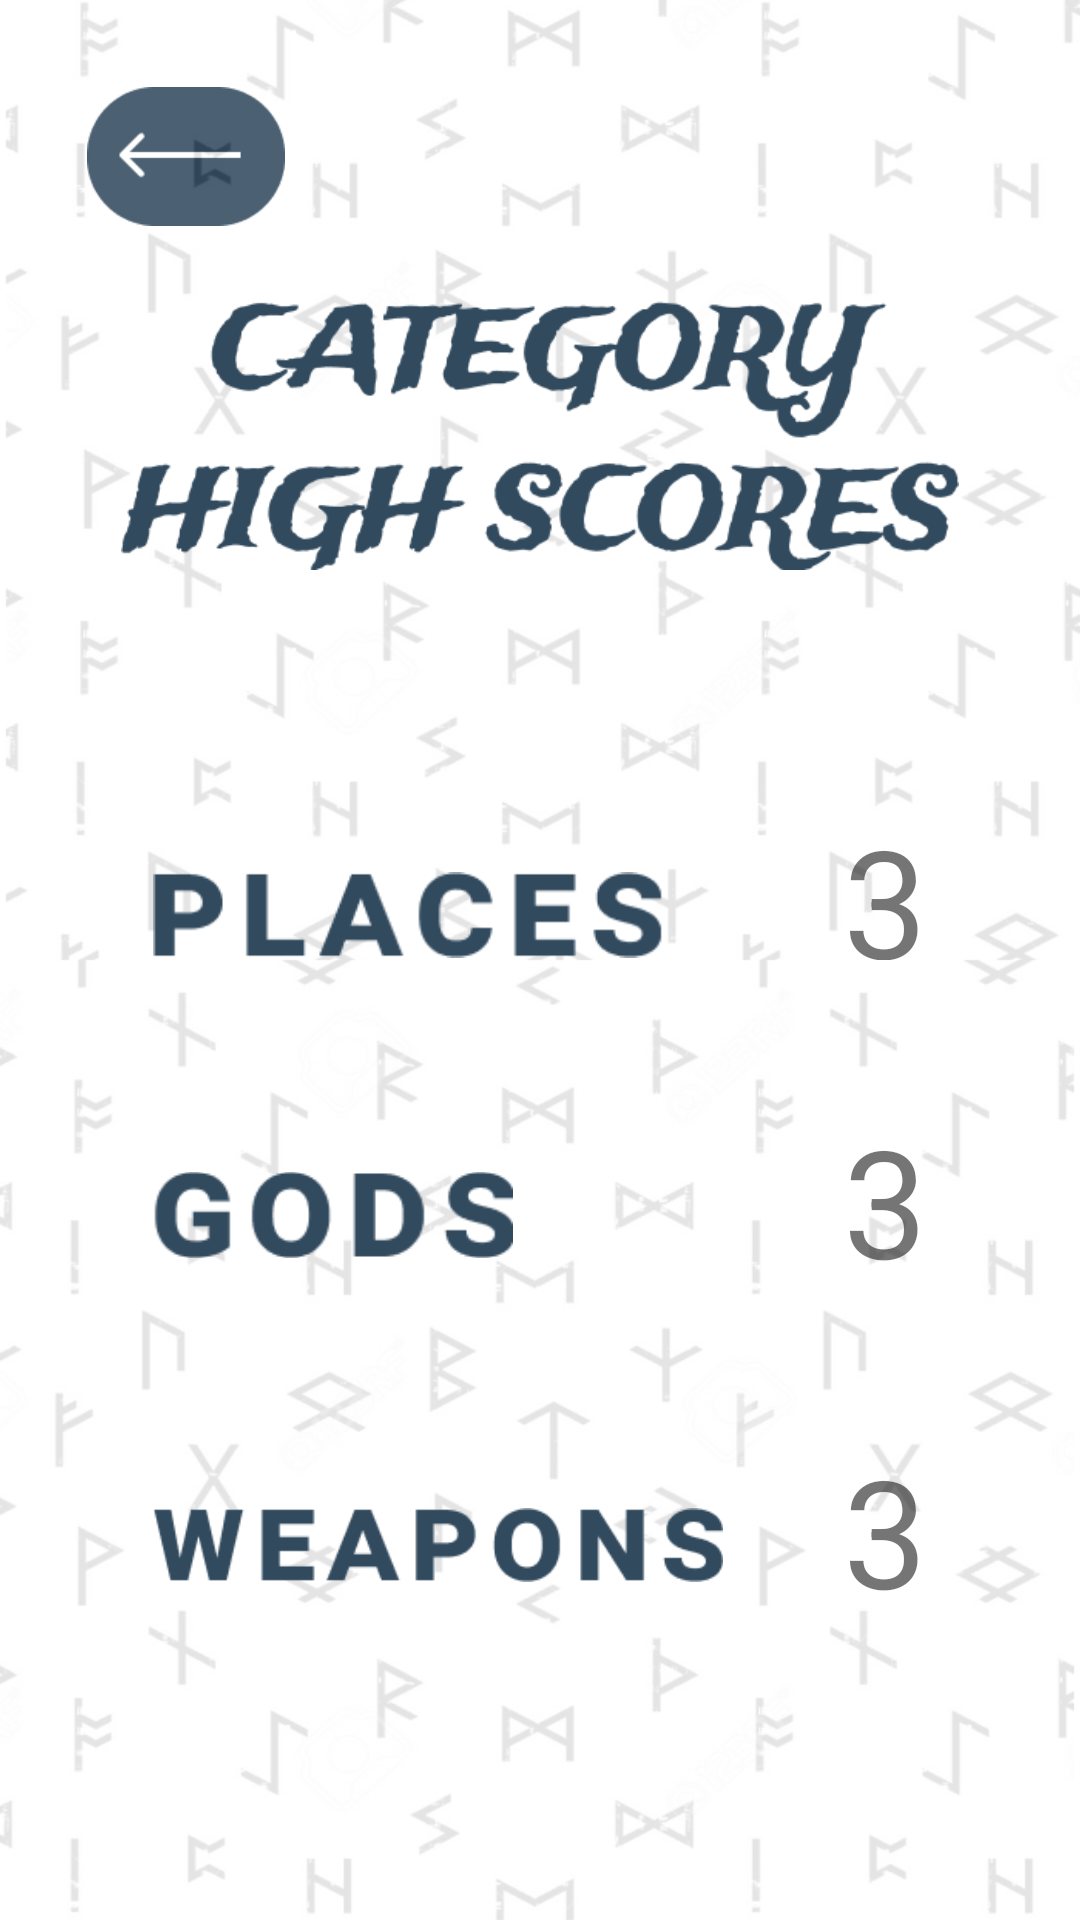

Named icons in this screenshot (1080x1920) and their bounding boxes, bbox=[x1, y1, x2, y2]:
back: bbox=[87, 87, 285, 293]
